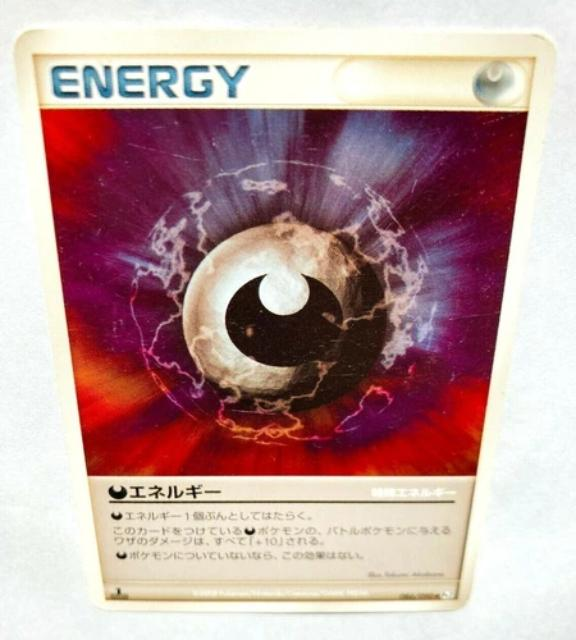Card: (7, 20, 565, 618)
Name: (104, 478, 232, 509)
